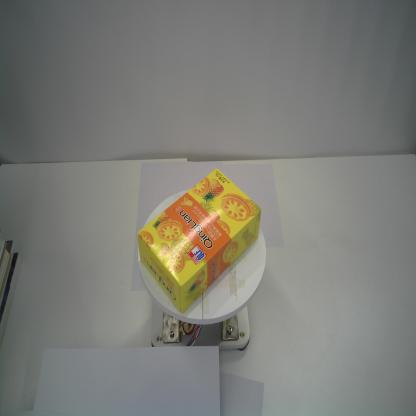Dessert: (136, 166, 262, 317)
